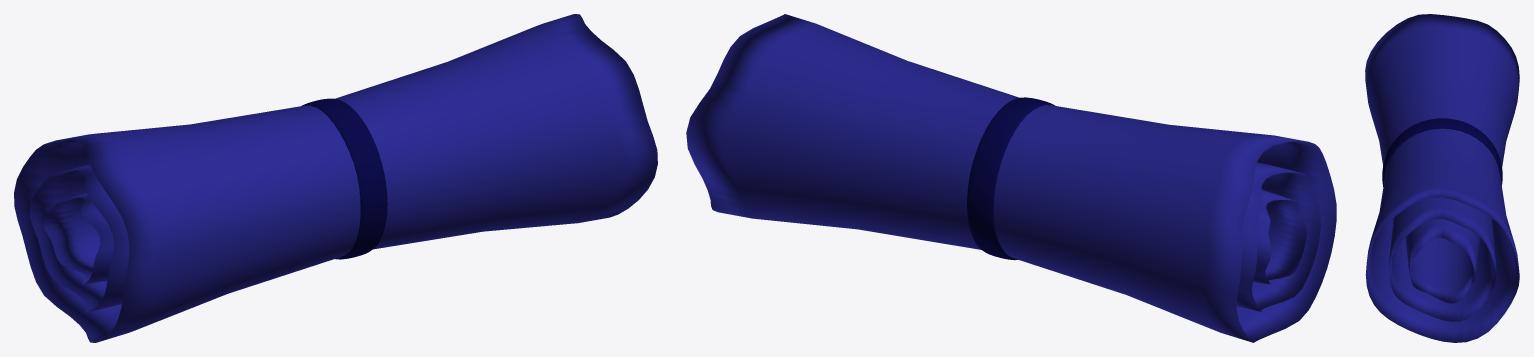
The model's file is Blueprint-Rolle.fbx.
3 views of the same model, side by side, from view 1: azimuth 30°, elevation 25°; view 2: azimuth 150°, elevation 25°; view 3: azimuth 270°, elevation 25° (orthographic). The views are drawn at different scales.
Parts seen in each view (by area): view 1: polySurface4, polySurface5, polySurface2, polySurface3; view 2: polySurface4, polySurface5, polySurface2, polySurface3; view 3: polySurface4, polySurface5, polySurface3, polySurface2.
Part boxes in pixels (bbox=[...]): polySurface4: bbox=[14, 14, 657, 342]; polySurface5: bbox=[29, 164, 129, 311]; polySurface2: bbox=[301, 98, 387, 259]; polySurface3: bbox=[43, 192, 113, 284]; polySurface4: bbox=[686, 14, 1336, 342]; polySurface5: bbox=[1236, 162, 1320, 311]; polySurface2: bbox=[967, 97, 1055, 260]; polySurface3: bbox=[1253, 189, 1306, 284]; polySurface4: bbox=[1365, 14, 1519, 342]; polySurface5: bbox=[1389, 197, 1496, 321]; polySurface3: bbox=[1405, 218, 1480, 303]; polySurface2: bbox=[1382, 118, 1502, 186].
Size of the model in its own units: 19.86 by 6.46 by 6.49.
